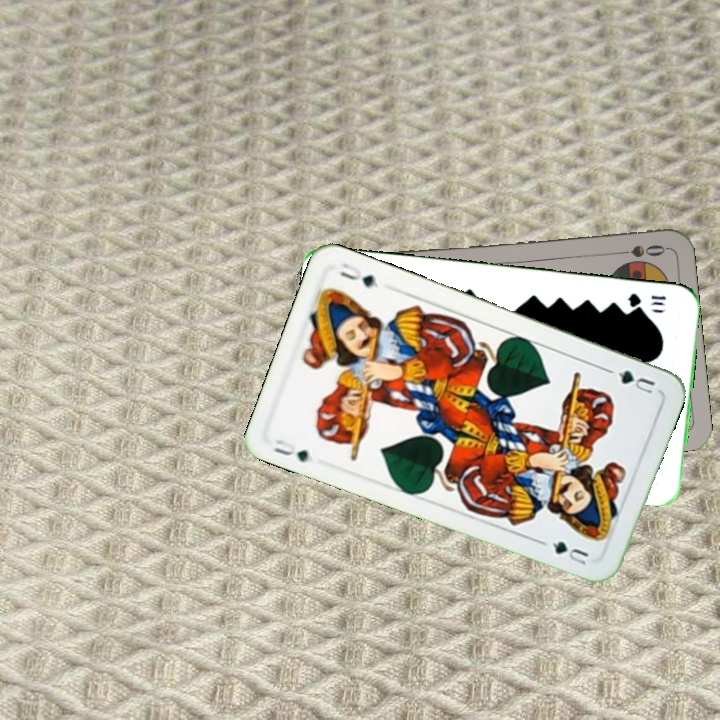G10: (624, 289, 669, 310)
GU: (604, 365, 658, 397), (269, 435, 316, 465)
SO: (609, 240, 668, 260)
